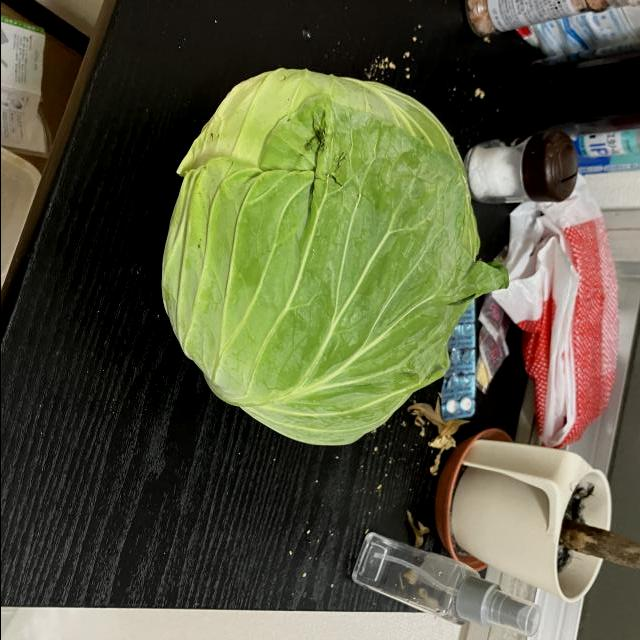cabbage: (153, 67, 511, 450)
